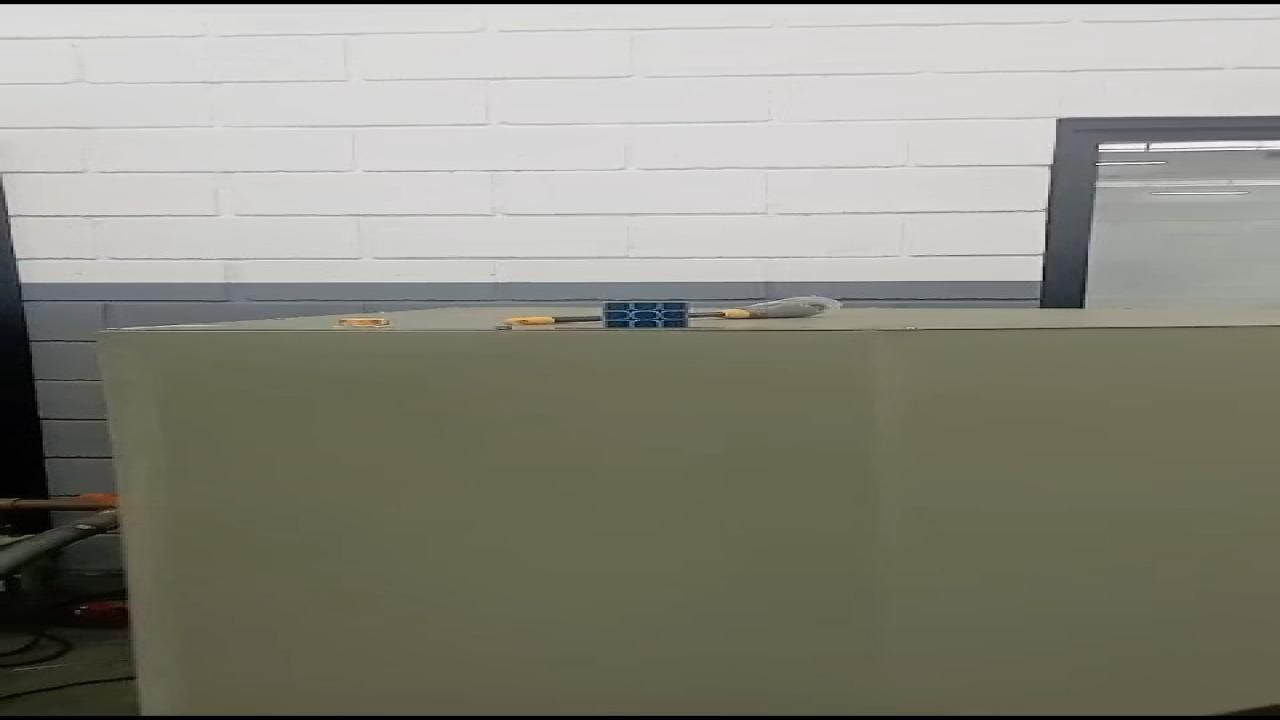Cube: (602, 302, 690, 328)
